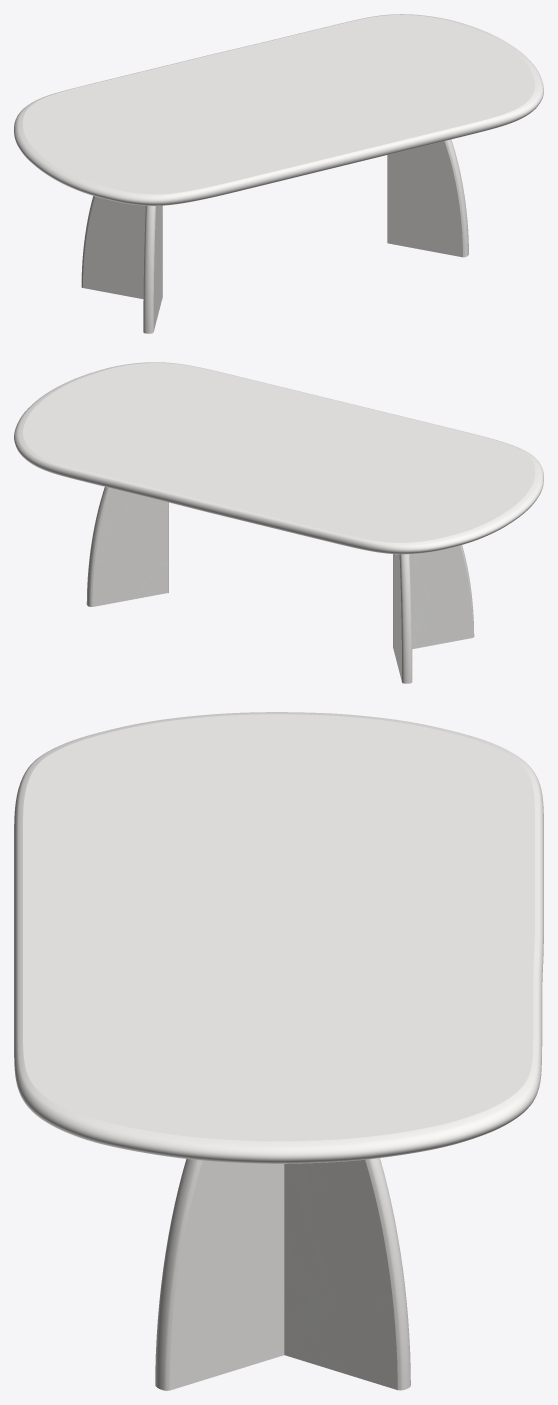
The model's file is purewhite_oval_round_newtable2.glb.
3 renders of one model, top to bottom at view 1: azimuth 30°, elevation 25°; view 2: azimuth 150°, elevation 25°; view 3: azimuth 270°, elevation 25°, orthographic. The views are drawn at different scales.
Visible parts, largest first — view 1: round_oval, newtable2_singleright2, newtable2_singleleft1, newtable2_singleright1; view 2: round_oval, newtable2_singleleft2, newtable2_singleright1, newtable2_singleleft1; view 3: round_oval, newtable2_singleright2, newtable2_singleleft2.
Part boxes in pixels (x1=…): round_oval: x1=14, y1=14, x2=543, y2=205; newtable2_singleright2: x1=387, y1=139, x2=468, y2=257; newtable2_singleleft1: x1=81, y1=196, x2=162, y2=299; newtable2_singleright1: x1=143, y1=205, x2=162, y2=333; round_oval: x1=14, y1=362, x2=543, y2=554; newtable2_singleleft2: x1=86, y1=487, x2=167, y2=606; newtable2_singleright1: x1=393, y1=545, x2=474, y2=649; newtable2_singleleft1: x1=393, y1=554, x2=412, y2=683; round_oval: x1=14, y1=712, x2=543, y2=1163; newtable2_singleright2: x1=155, y1=1159, x2=284, y2=1390; newtable2_singleleft2: x1=284, y1=1158, x2=410, y2=1390.
Size of the model in its own units: 7.5 by 2.49 by 3.8.
Materials: 1 (1 with a texture image).
